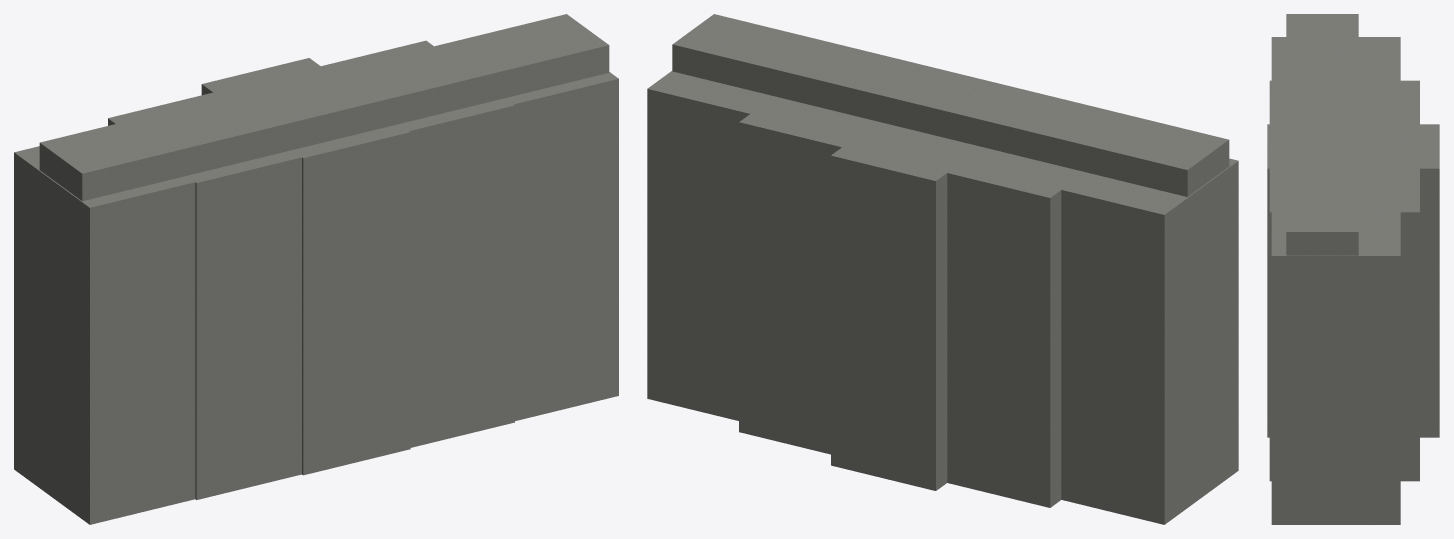
The picture shows the model from 3 angles, left to right: view 1: azimuth 30°, elevation 25°; view 2: azimuth 150°, elevation 25°; view 3: azimuth 270°, elevation 25°; orthographic projection. The views are drawn at different scales.
Parts seen in each view (by area): view 1: dam_arch_v1; view 2: dam_arch_v1; view 3: dam_arch_v1.
Part boxes in pixels (box(x1,y1,x2,y2)): dam_arch_v1: box(14, 14, 618, 524); dam_arch_v1: box(647, 14, 1238, 524); dam_arch_v1: box(1267, 14, 1439, 524).
Size of the model in its own units: 24.1 by 15 by 8.
Materials: 1 (1 with a texture image).
